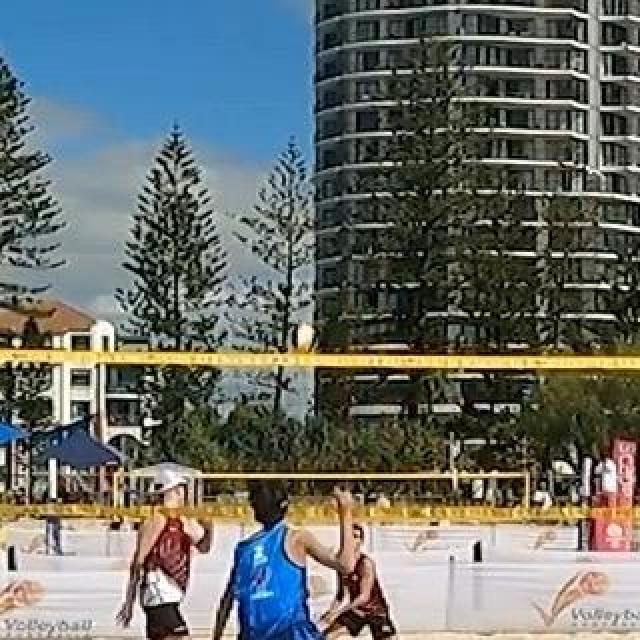volleyball: (285, 322, 319, 356)
